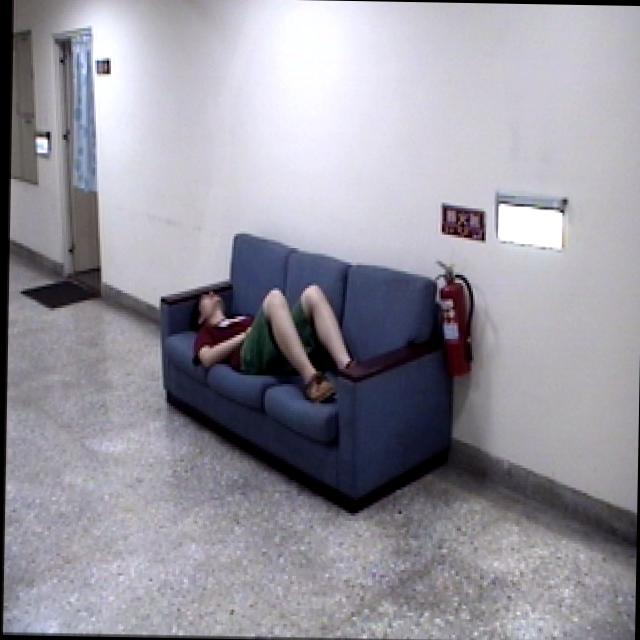lie: (180, 274, 377, 404)
